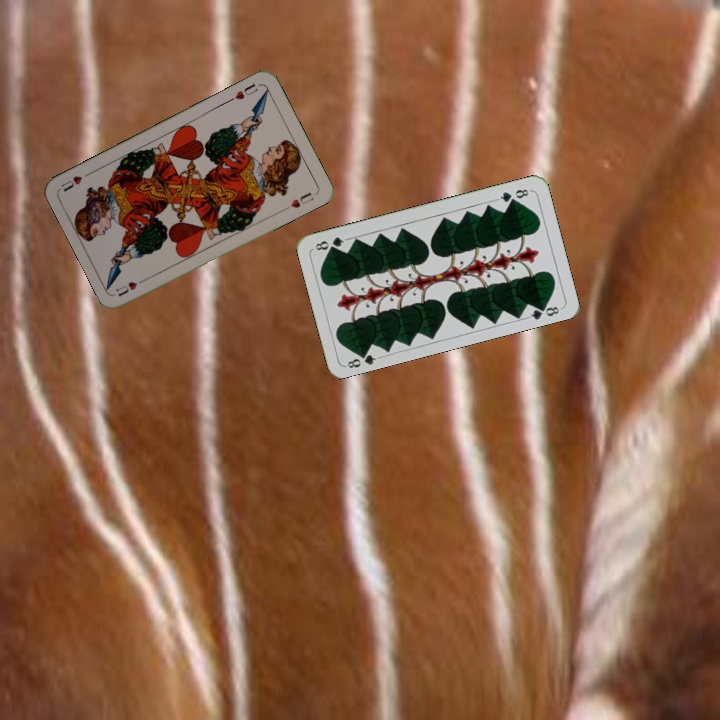G8: (342, 347, 382, 371), (493, 185, 533, 205)
HU: (112, 273, 150, 299), (225, 79, 260, 104)
